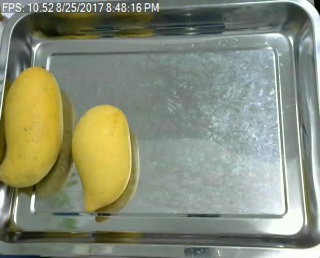Mango: (0, 59, 65, 194), (66, 101, 136, 216)
